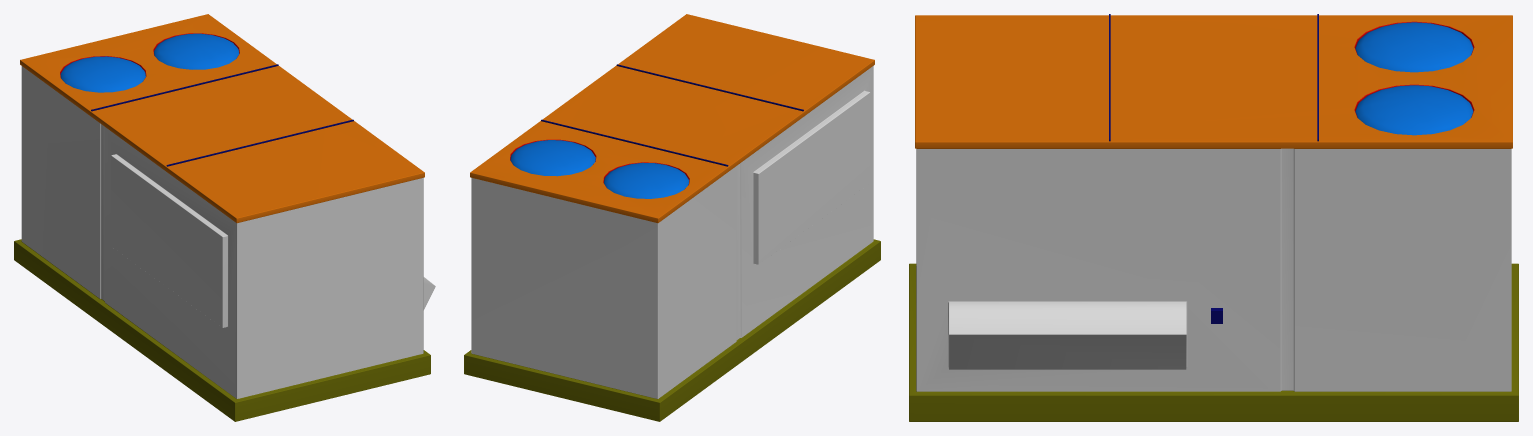
The model's file is RoofDeco_HVAC_Large.FBX.
The picture shows the model from 3 angles, left to right: view 1: azimuth 30°, elevation 25°; view 2: azimuth 150°, elevation 25°; view 3: azimuth 270°, elevation 25°; orthographic projection. The views are drawn at different scales.
Parts seen in each view (by area): view 1: HVAC_Small; view 2: HVAC_Small; view 3: HVAC_Small.
Boxes of the visible parts, x1=… form: HVAC_Small: x1=14, y1=14, x2=435, y2=421; HVAC_Small: x1=464, y1=14, x2=880, y2=421; HVAC_Small: x1=909, y1=14, x2=1518, y2=421.
Size of what is drawn, in the model's own units: 232 by 213 by 410.
